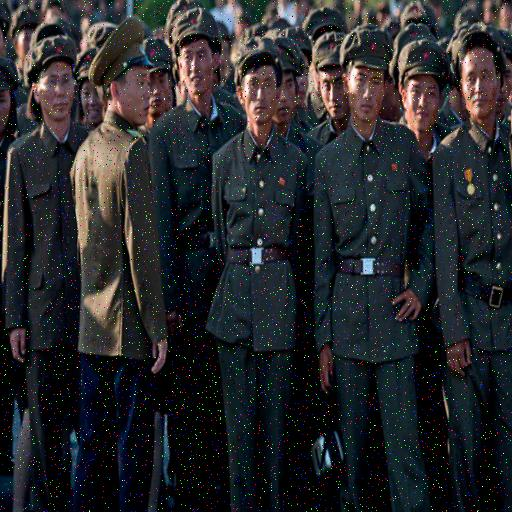north army: (43, 2, 242, 512)
